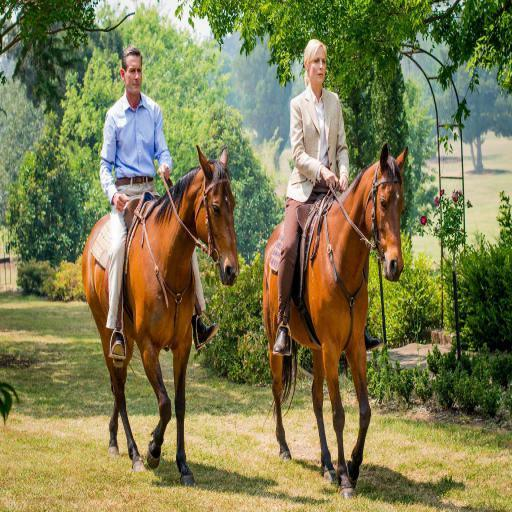Horse: (81, 144, 240, 487), (264, 140, 410, 498)
